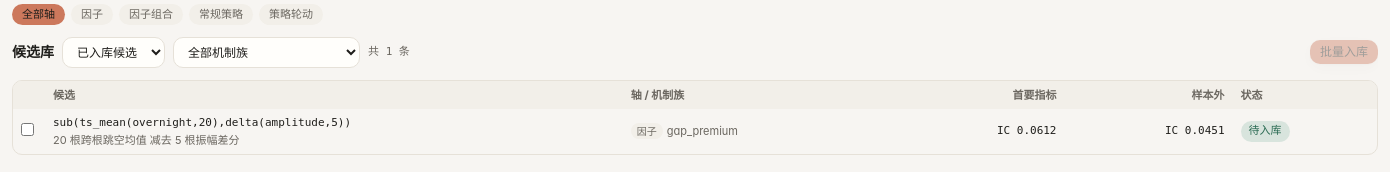
Scenario: DiscoveryCandidates — 候选表 › 切到因子轴后列头换成因子口径（IS RankIC / IR / 换手）
Click the button "因子" at (92, 14), box [71,4,113,24]
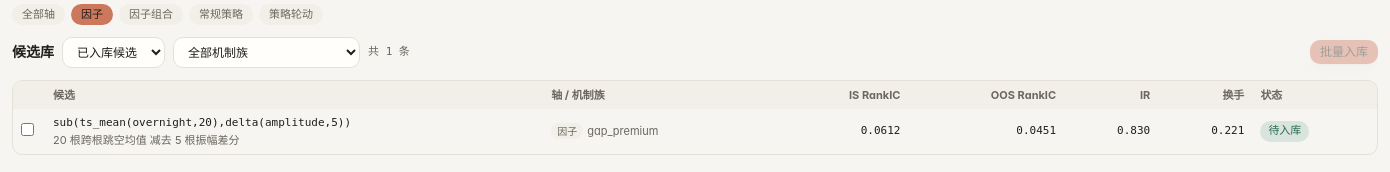
Expected: the text "0.0612" is shown, [779,109,908,154]
Expected: the column heading "IS RankIC" is shown, [779,80,908,109]
Expected: the text "0.221" is shown, [1158,109,1252,154]
